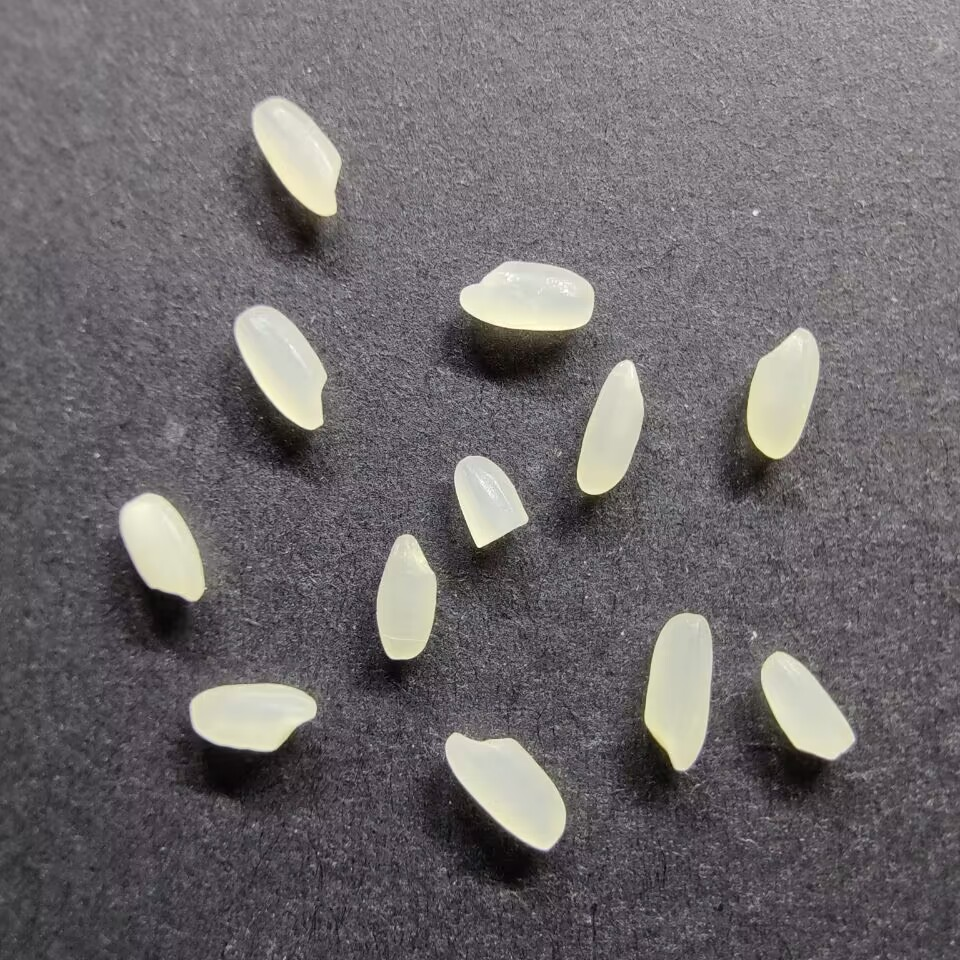broken: (454, 452, 530, 549)
rice: (442, 730, 567, 852), (232, 304, 329, 431), (640, 611, 716, 773), (250, 96, 344, 219), (758, 650, 857, 762), (572, 358, 647, 496), (744, 324, 820, 460), (117, 491, 207, 604), (457, 259, 596, 332), (187, 681, 318, 753), (374, 531, 440, 662)
